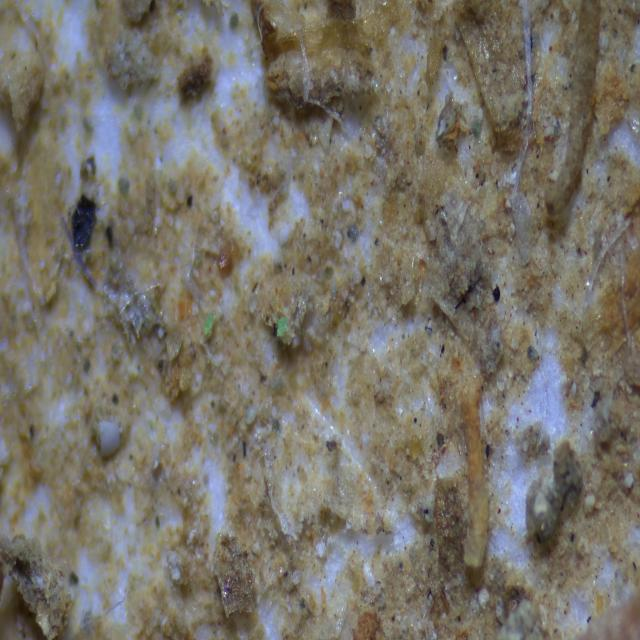microplastic: (202, 312, 217, 336), (276, 315, 288, 338)
